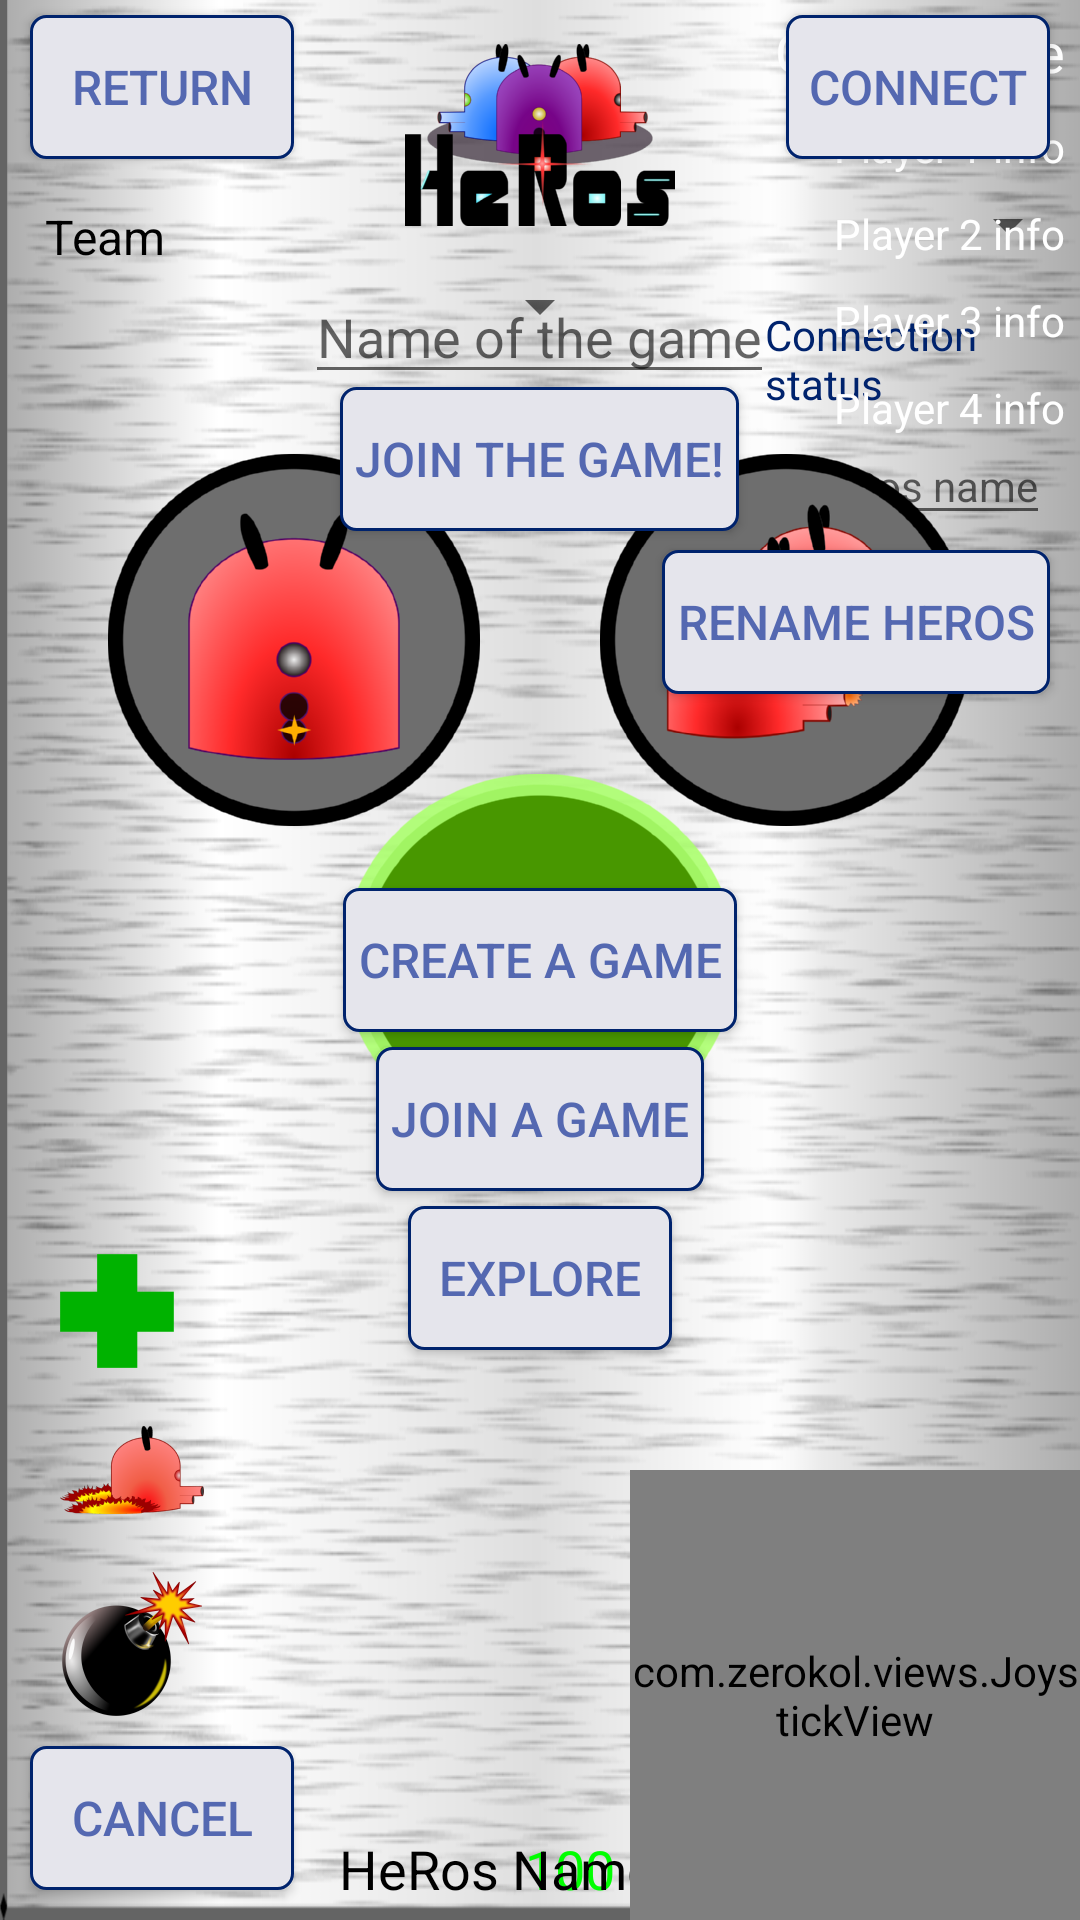

Screen size 1080px x 1920px. Icon name, then its box in pixels as (x1, y1, x2, y2):
Heal: (60, 1254, 174, 1368)
